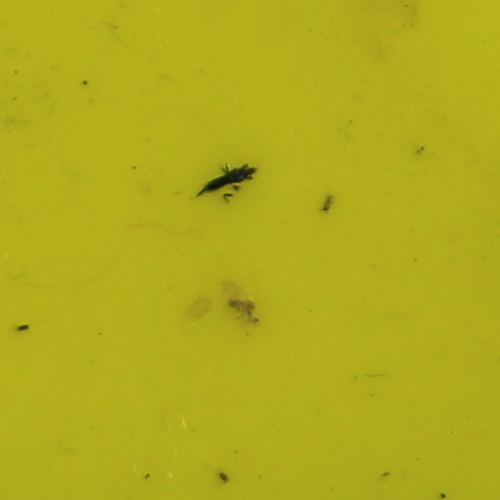Platyobria: (228, 296, 262, 322)
